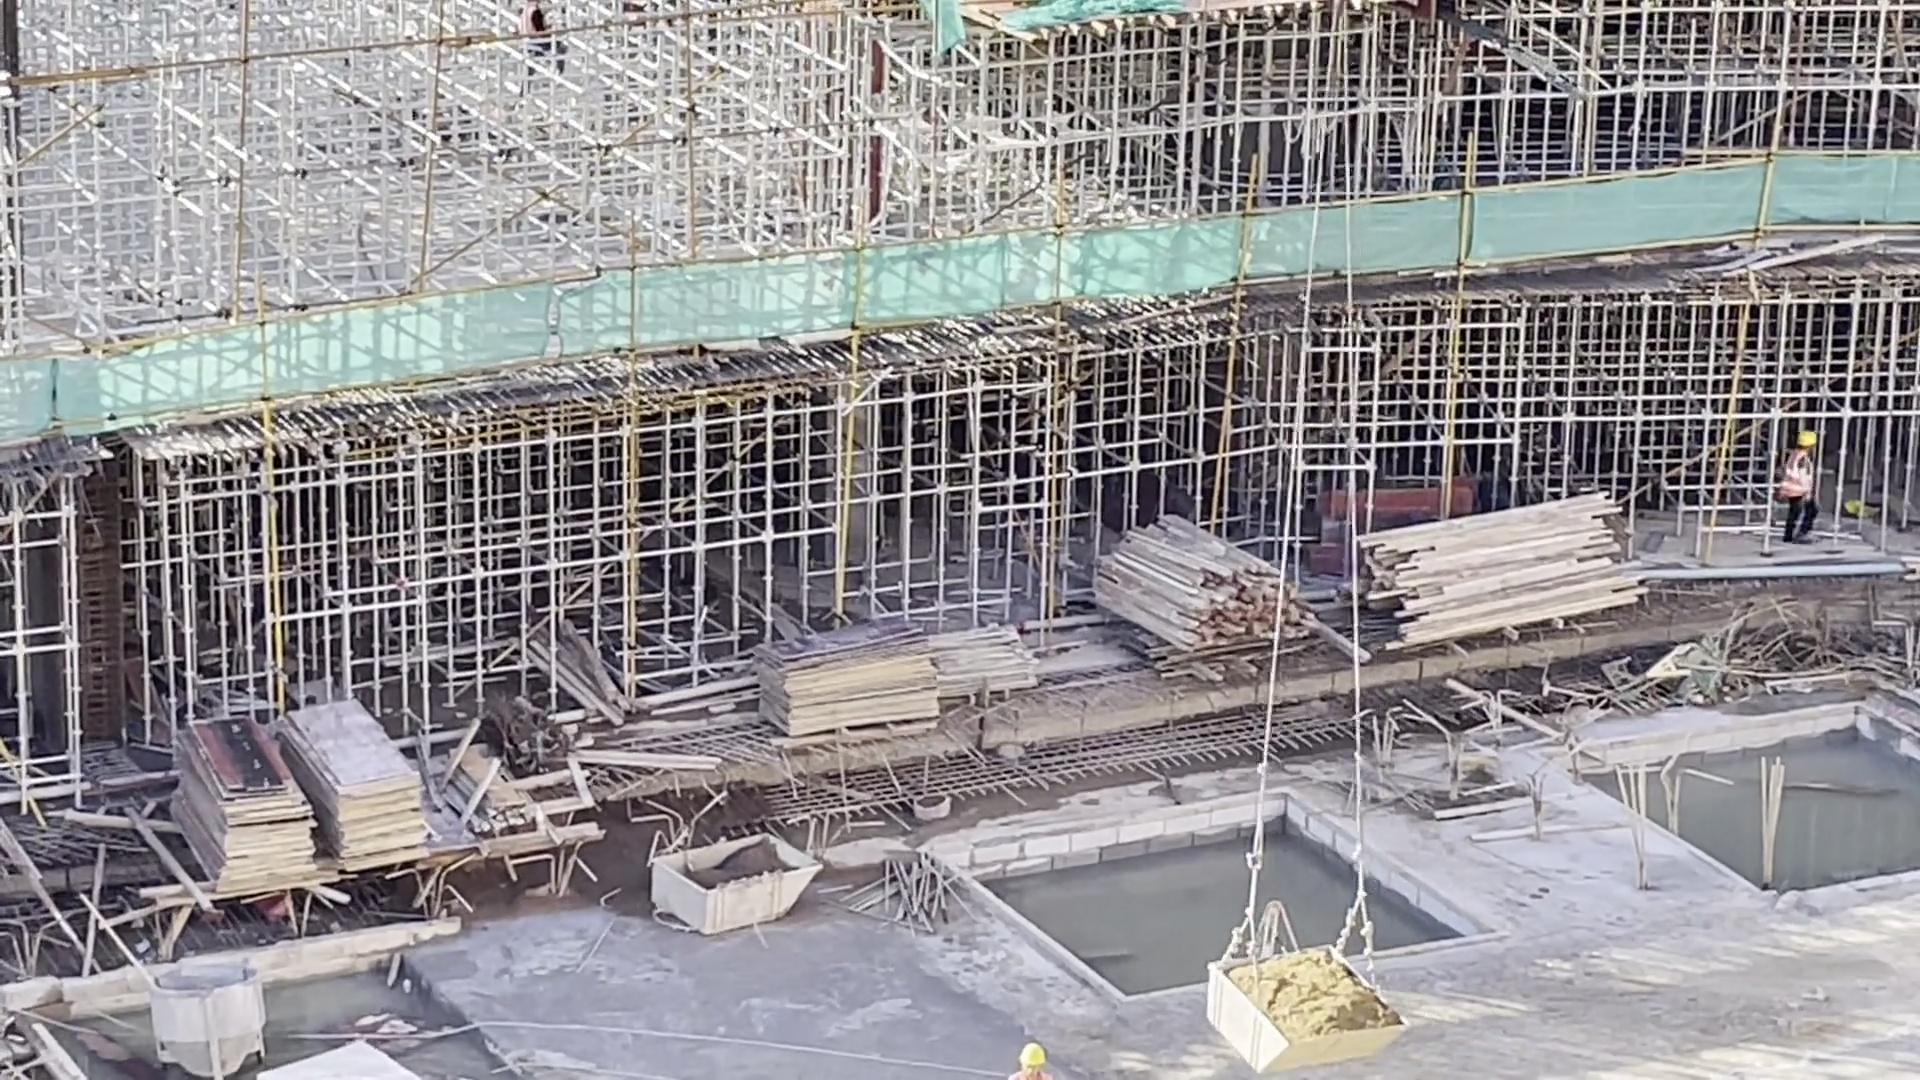board: (160, 711, 321, 904), (278, 693, 440, 878), (754, 616, 948, 745)
brick: (254, 1037, 412, 1080)
helmet: (1018, 1039, 1054, 1068), (1794, 430, 1817, 446)
hopper: (1200, 945, 1402, 1076), (647, 831, 821, 932), (144, 956, 267, 1078)
person: (1778, 428, 1822, 547), (995, 1039, 1061, 1080)
vest: (1781, 448, 1814, 500)
wood: (1354, 483, 1652, 649), (1089, 508, 1314, 661)
